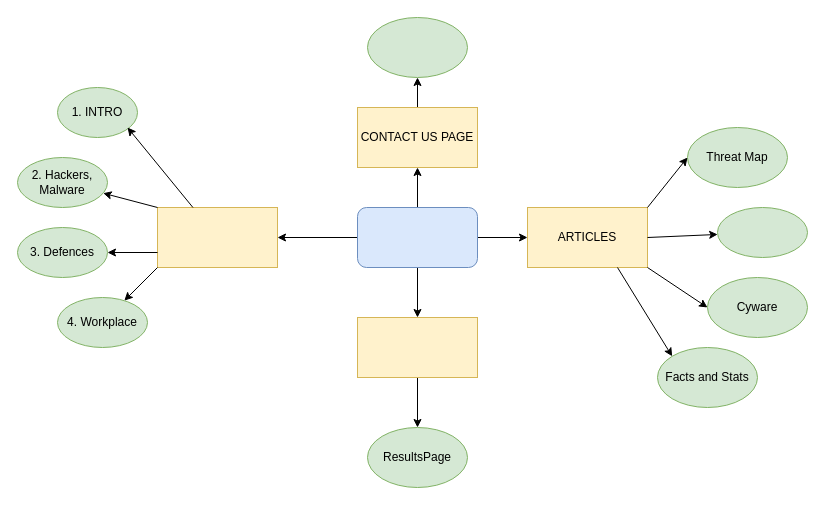
Some shapes in this 825 by 505 pixel diagram are drawn without their labels. The box of each missing label's shape, as (x1, y1, x2, y2) in pixels:
HOMEPAGE: (356, 206, 478, 268)
QUIZ: (356, 316, 478, 378)
Sharepoint database: (366, 16, 468, 78)
Threatpost: (716, 206, 808, 258)
VIDEOS: (156, 206, 278, 268)
